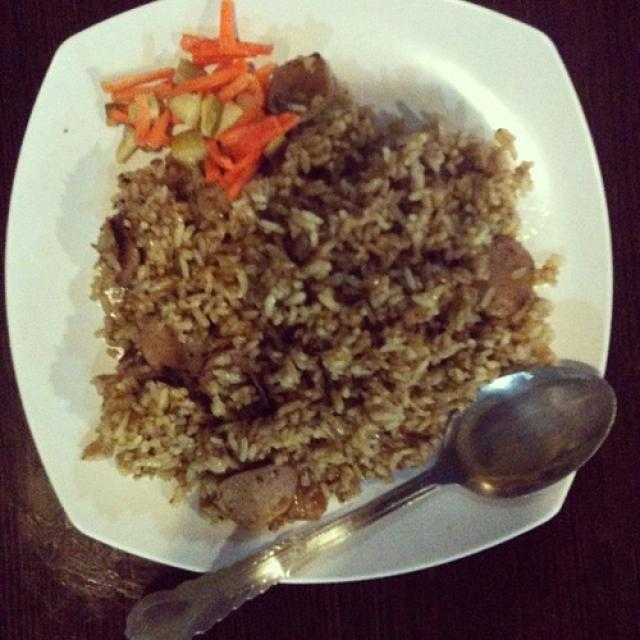米饭主食: (36, 28, 595, 549)
